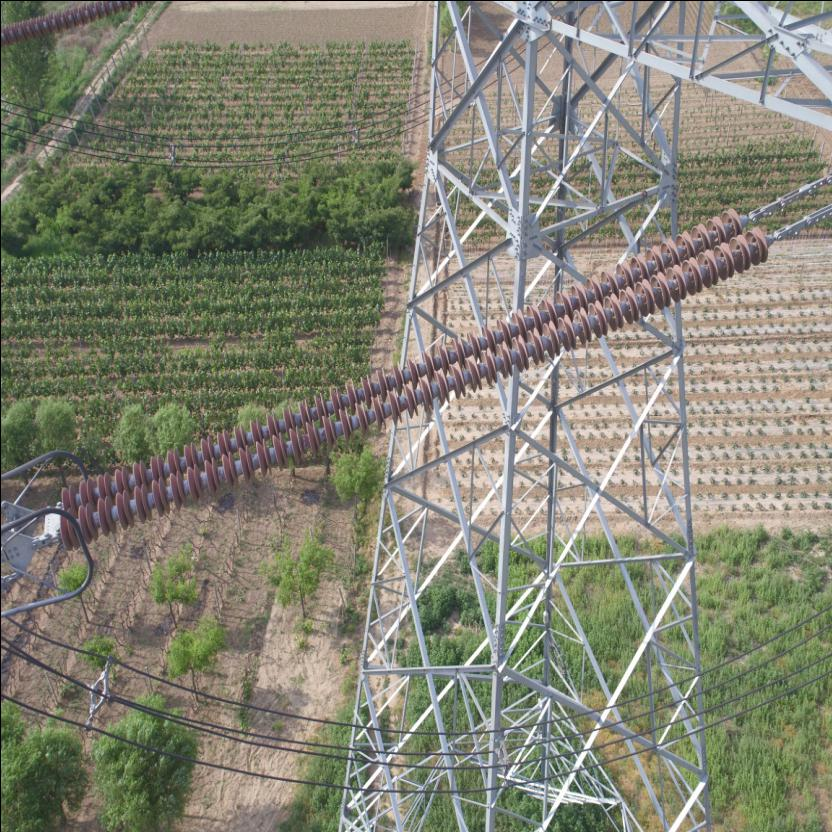insulator: (25, 194, 810, 560)
